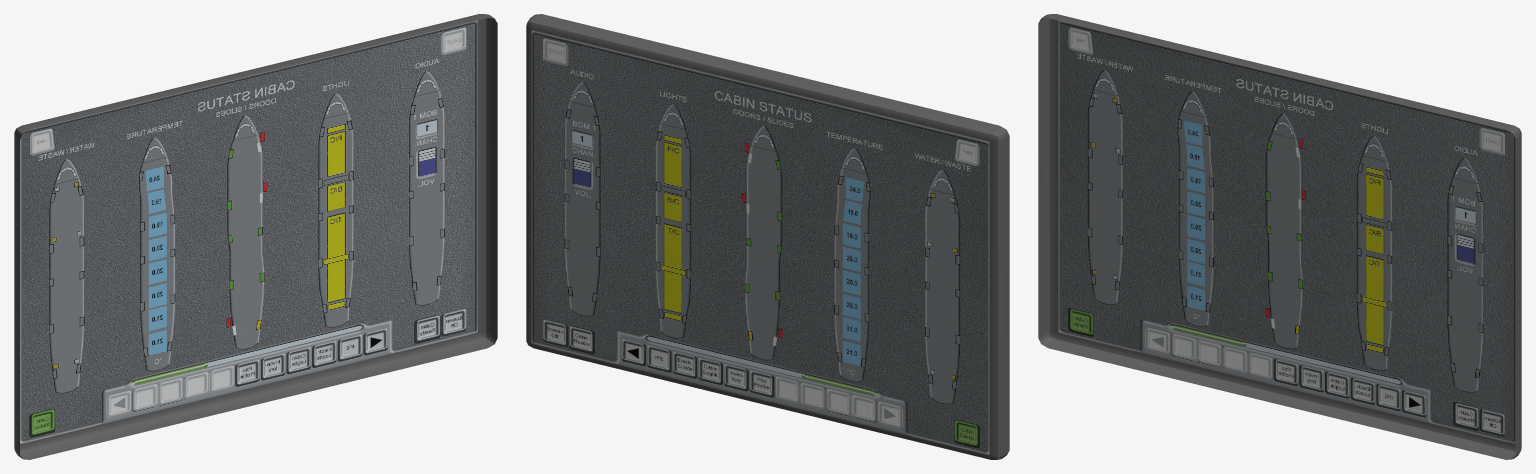
The model's file is Screen.fbx.
3 views of the same model, side by side, from view 1: azimuth 30°, elevation 25°; view 2: azimuth 150°, elevation 25°; view 3: azimuth 330°, elevation 25° (orthographic).
Visible parts, largest first — view 1: polySurface238, polySurface237; view 2: polySurface238, polySurface237; view 3: polySurface238, polySurface237.
Part boxes in pixels (x1,y1,x2,y2): polySurface238: (20,20,477,444); polySurface237: (14,14,497,459); polySurface238: (531,29,989,455); polySurface237: (526,14,1009,459); polySurface238: (1058,20,1515,444); polySurface237: (1038,14,1521,459).
Size of the model in its own units: 61.34 by 40.52 by 2.25.
